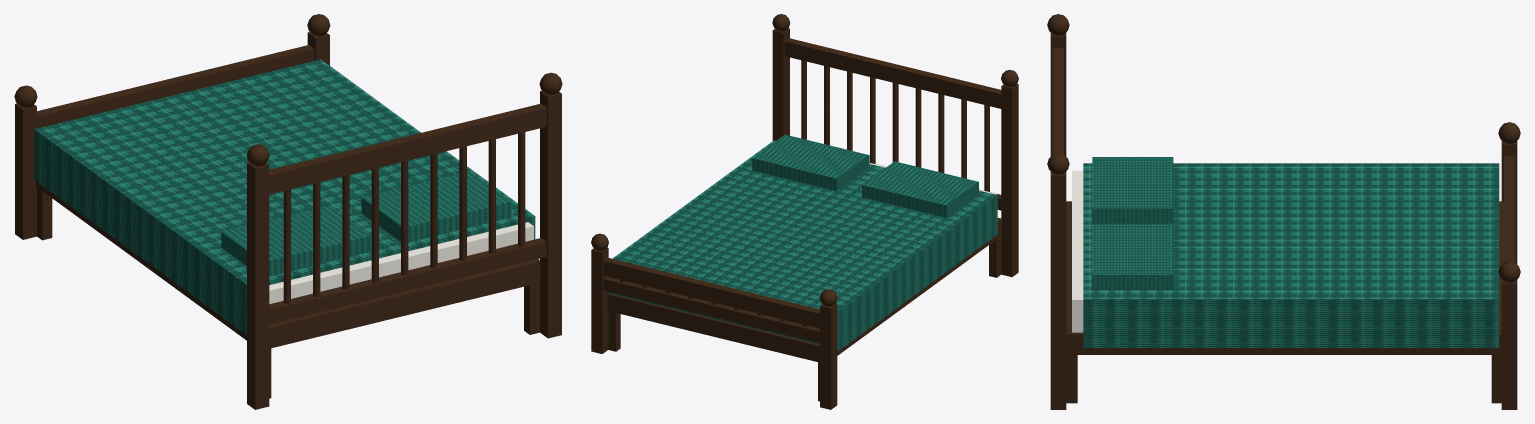
Rendered from bed-double.glb.
3 views of the same model, side by side, from view 1: azimuth 30°, elevation 25°; view 2: azimuth 150°, elevation 25°; view 3: azimuth 270°, elevation 25° (orthographic). The views are drawn at different scales.
Visible parts, largest first — view 1: bed-double; view 2: bed-double; view 3: bed-double.
Part boxes in pixels (<box>): bed-double: <box>14,14,562,409</box>; bed-double: <box>591,14,1018,409</box>; bed-double: <box>1047,14,1520,409</box>.
Size of the model in its own units: 1.56 by 1.24 by 2.11.
3 materials, 1 textured.
